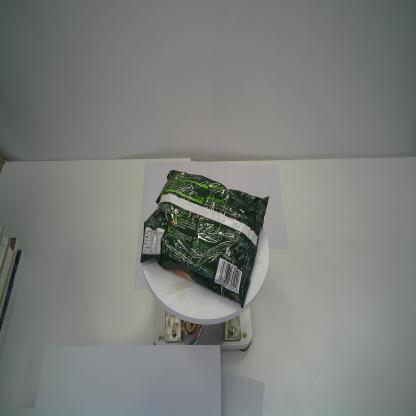Instant Noodles: (139, 166, 270, 310)
